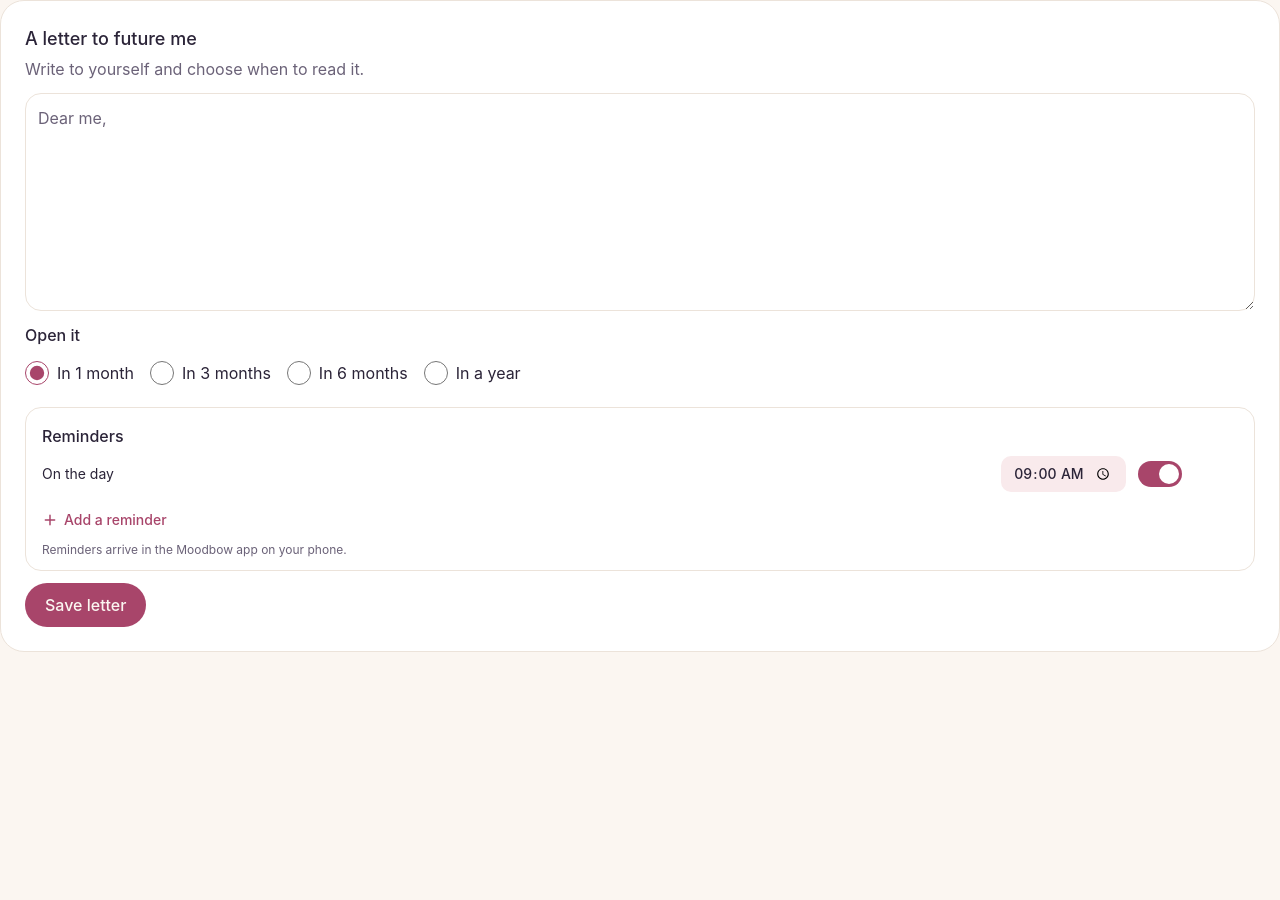
Test: LettersEditor: reminders, like alarms (Vitor, 14 Nov; 033) › board 26b: a heads-up's label chooses 1 day, 1 week, 2 weeks or 1 month; one that wouldn't fit, or is used, isn't offered
// A letter opening in 1 month (2026-11-10 to 2026-12-10, 30 days): 1 month before doesn't fit.
What coordinates should you click on to do the following:
click the button with test id "letter-reminder-add"
I would click on:
 (104, 520)
Its box is x1=42 y1=498 x2=167 y2=542.
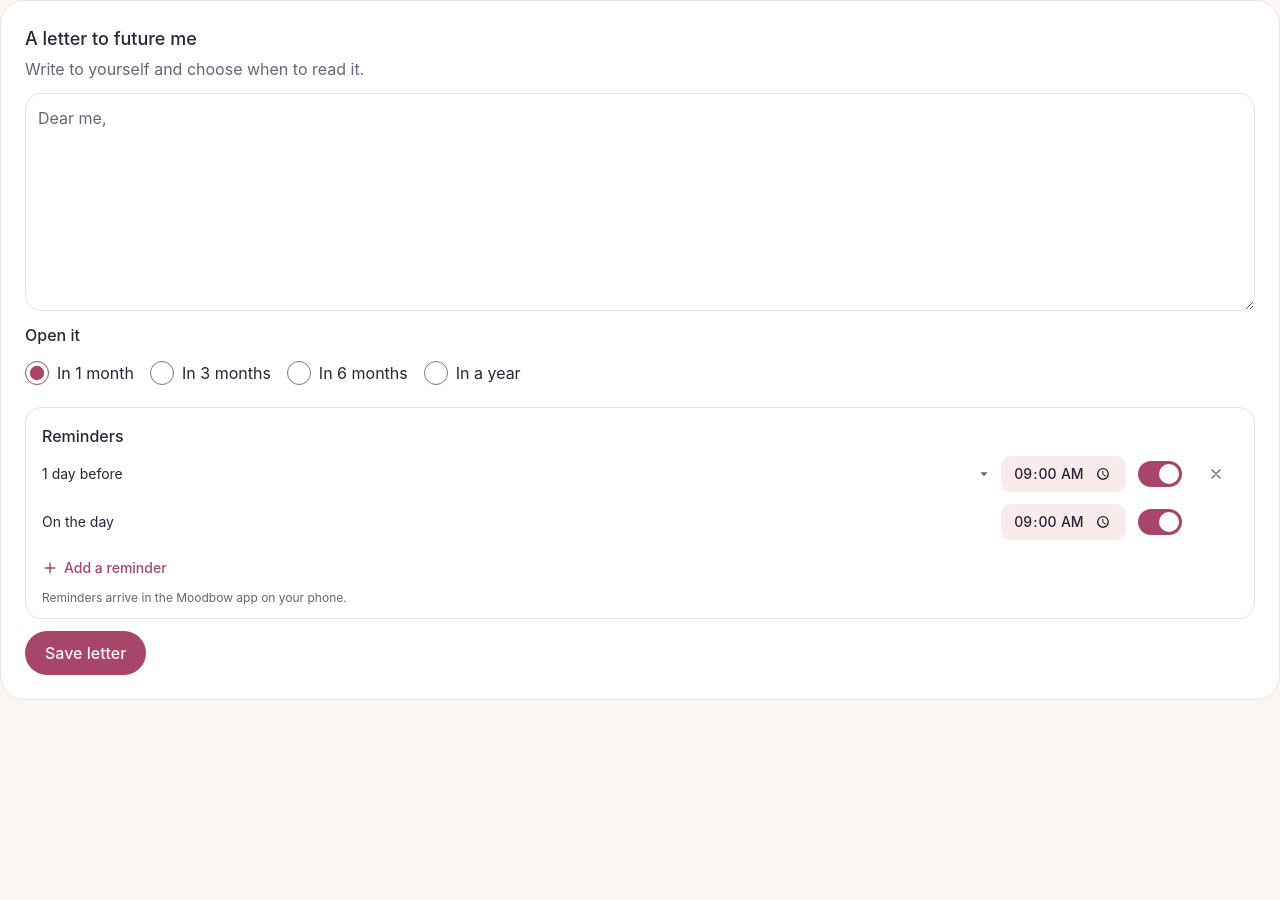
// Another row's choice isn't offered here.
What coordinates should you click on to do the following:
click the button with test id "letter-reminder-add"
I would click on:
 (104, 568)
Its box is x1=42 y1=546 x2=167 y2=590.
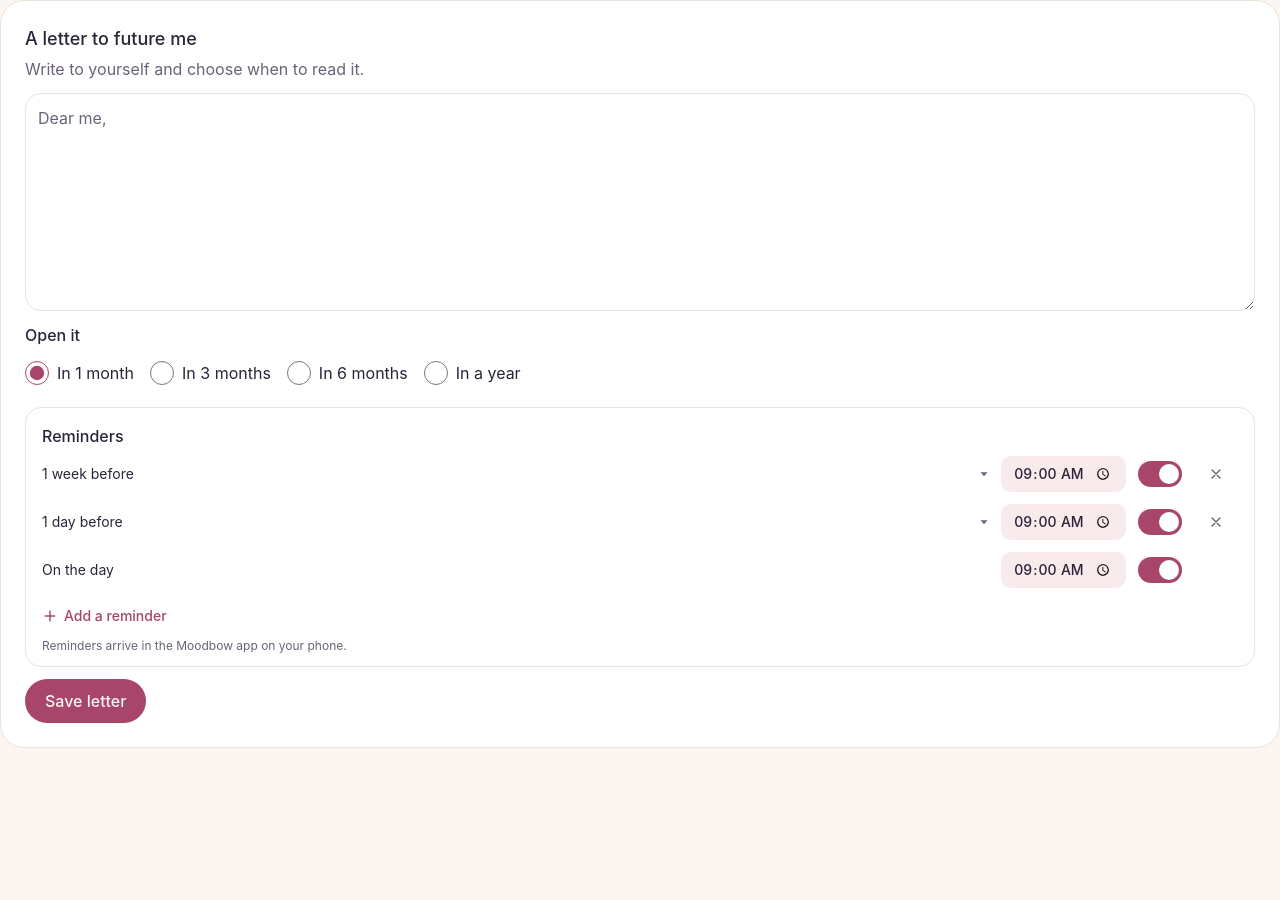
What coordinates should you click on to do the following:
click the button with test id "letter-reminder-add"
I would click on:
 (104, 616)
Its box is x1=42 y1=594 x2=167 y2=638.
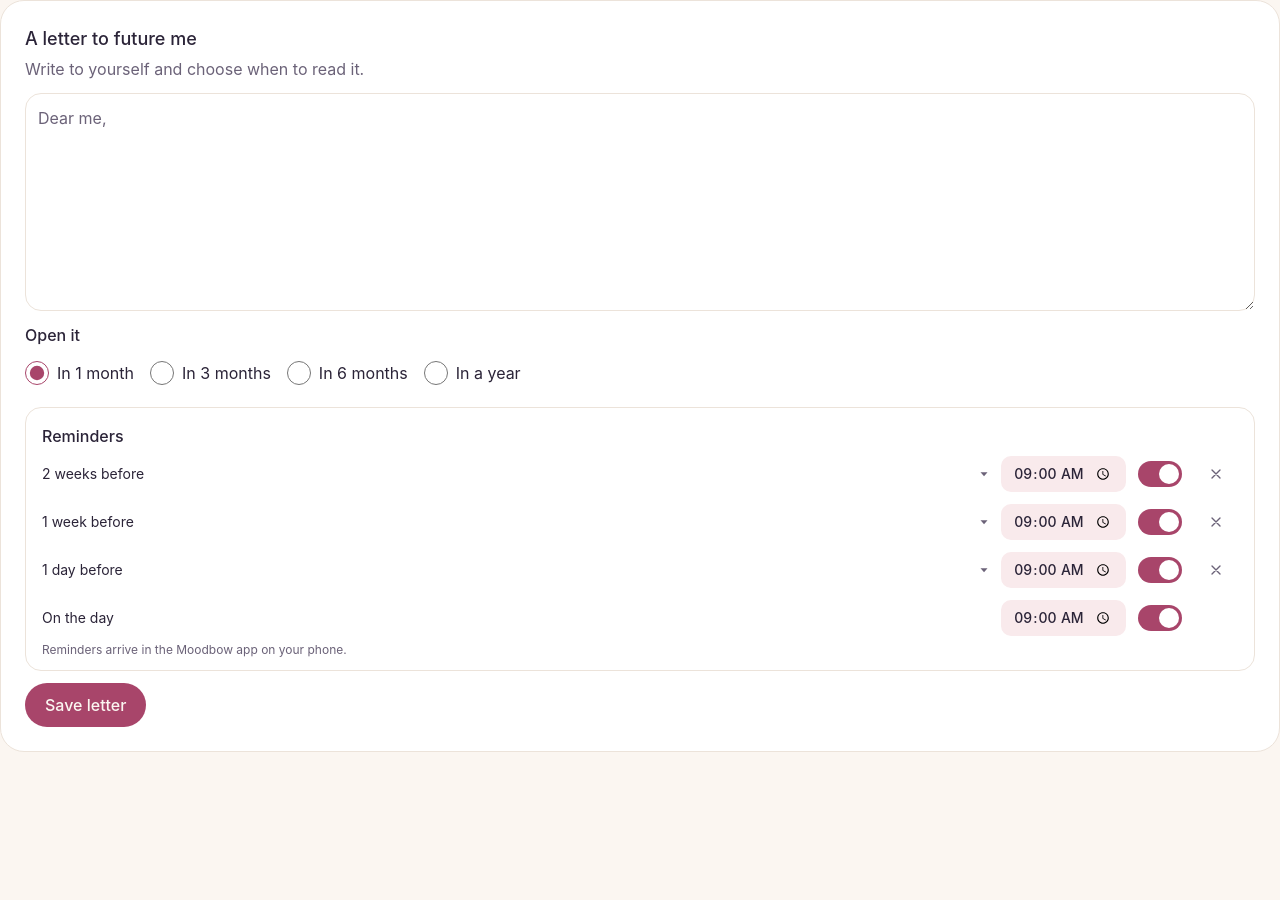
Now the button with test id "letter-reminder-add" is gone
Now the number of switches is 4, box x1=1136 y1=452 x2=1184 y2=496; x1=1136 y1=500 x2=1184 y2=544; x1=1136 y1=548 x2=1184 y2=592; x1=1136 y1=596 x2=1184 y2=640
